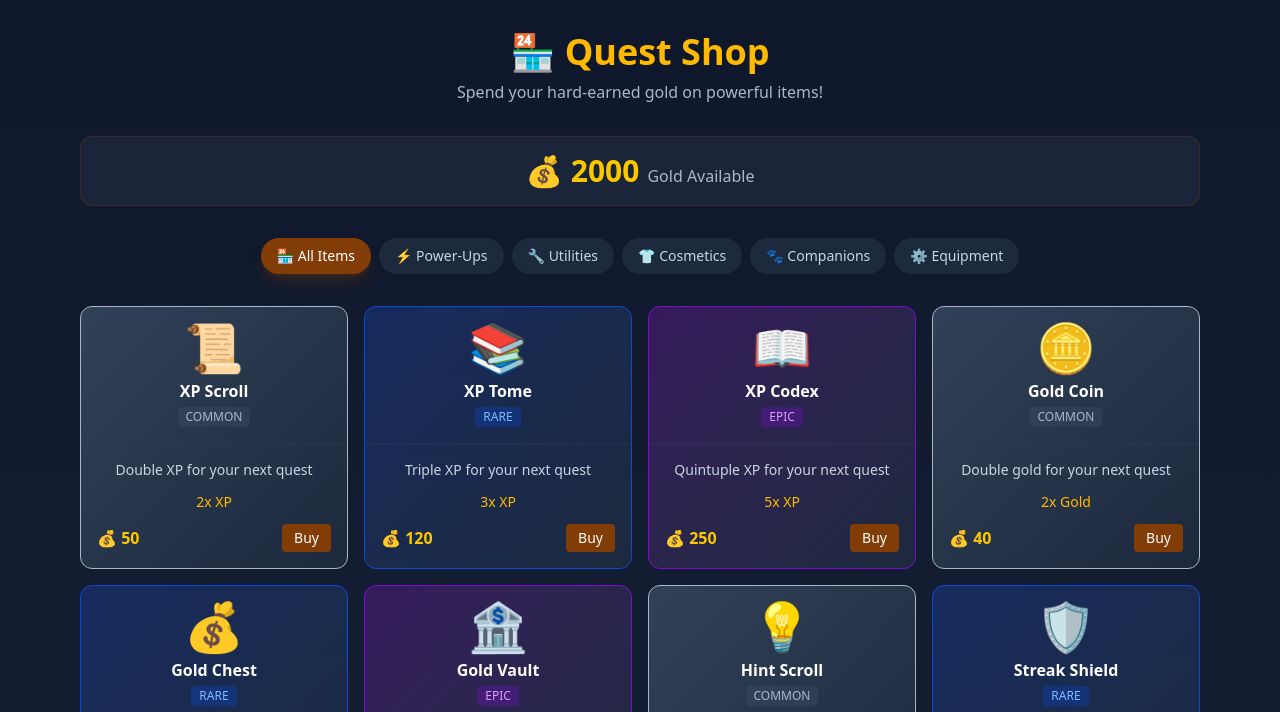
Test: StorePage › buys and equips a companion when the player has the gold
The width and height of the screenshot is (1280, 712).
Click the button "🐾 Companions" at point(818, 256), box [750,238,886,274]
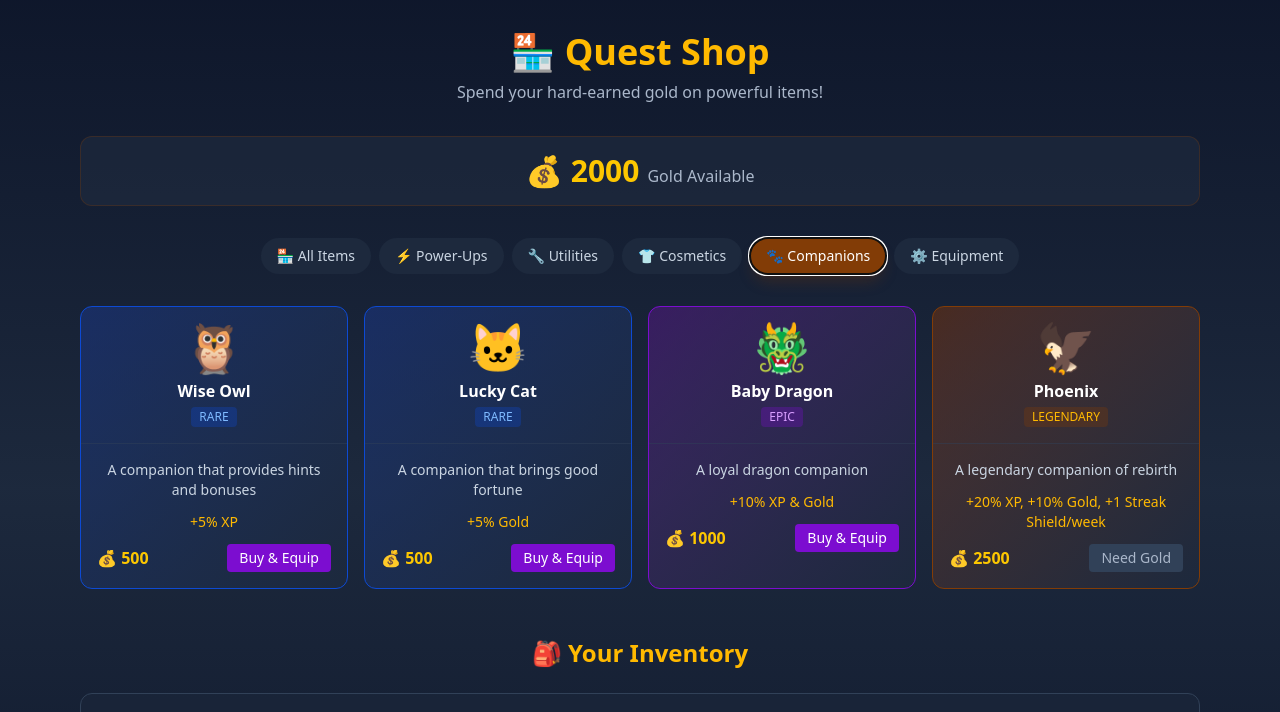
Check: the text "💰 500" below "+5% XP" is shown, box [97,546,149,570]
Click the button "Buy & Equip" below "+5% XP" at point(279, 558), box [227,544,331,572]
(page scrolled)
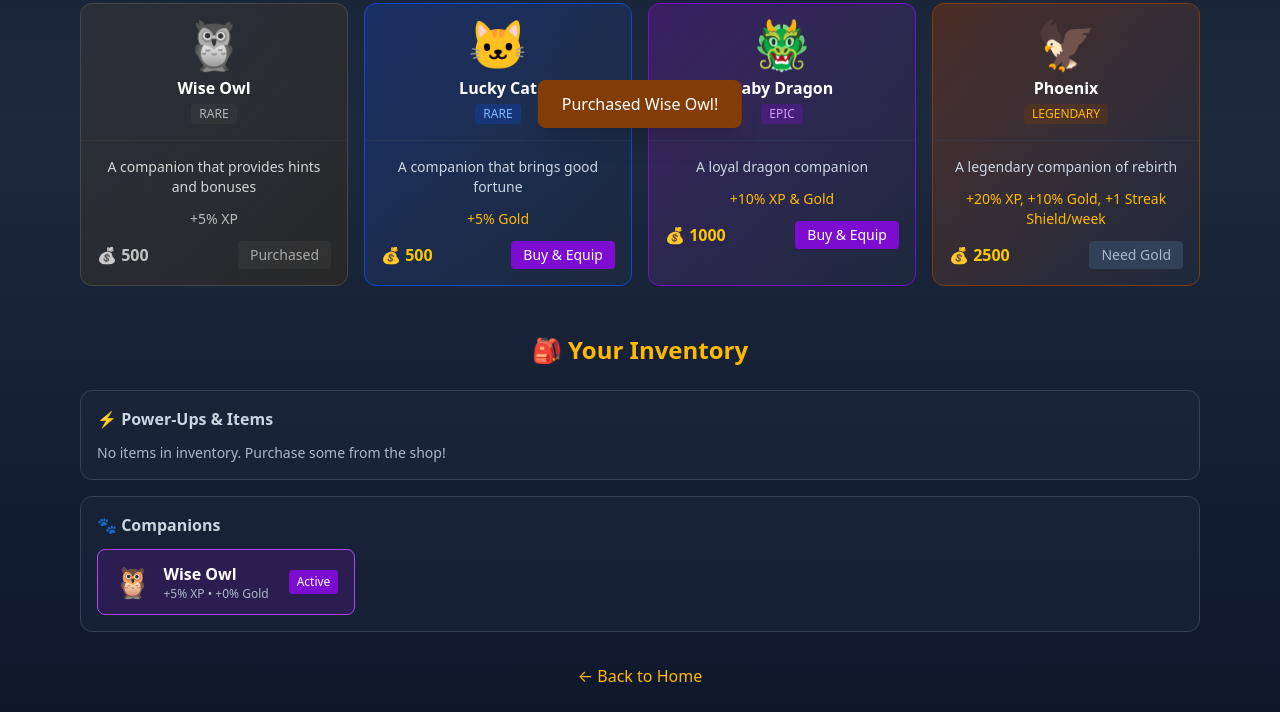
Check: the text "Purchased Wise Owl!" is shown, box [538,80,742,128]
Check: the text "Wise Owl" is shown, box [163,563,237,585]
Check: the text "+5% XP • +0% Gold" is shown, box [163,586,269,602]
